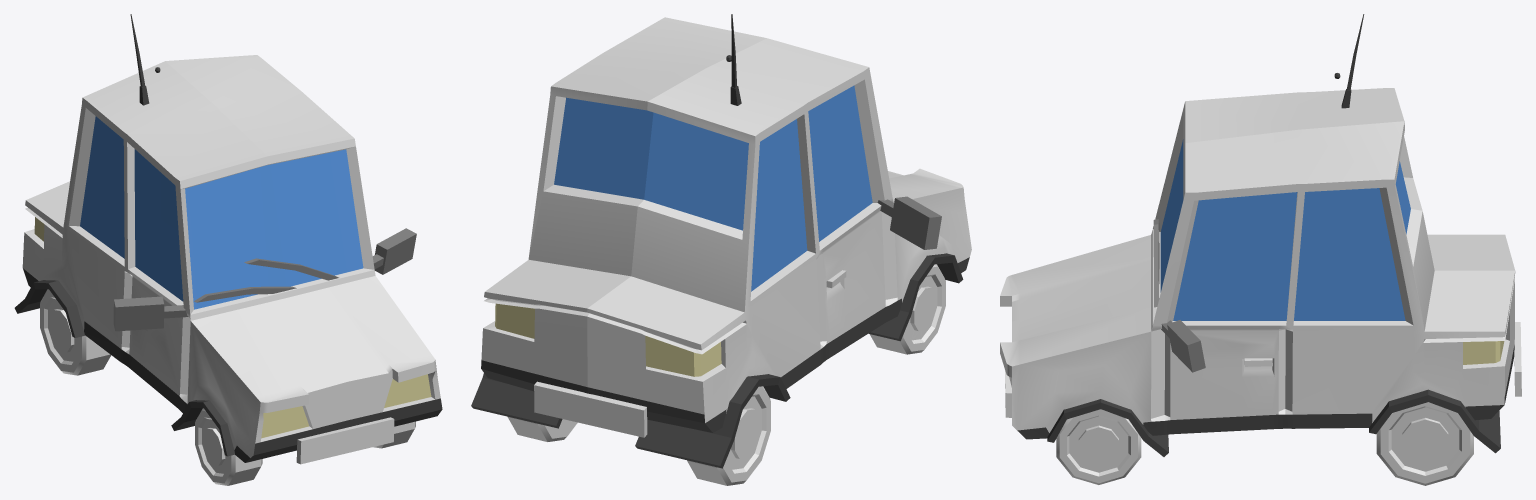
File: SM_Car.fbx
3 views of the same model, side by side, from view 1: azimuth 30°, elevation 25°; view 2: azimuth 150°, elevation 25°; view 3: azimuth 270°, elevation 25° (orthographic). The views are drawn at different scales.
Visible parts, largest first — view 1: pCylinder82; view 2: pCylinder82; view 3: pCylinder82.
Boxes of the visible parts, x1,y1,x2,y2 form: pCylinder82: (14,14,442,485); pCylinder82: (471,14,971,485); pCylinder82: (1000,14,1521,485).
Size of the model in its own units: 559 by 782 by 658.
